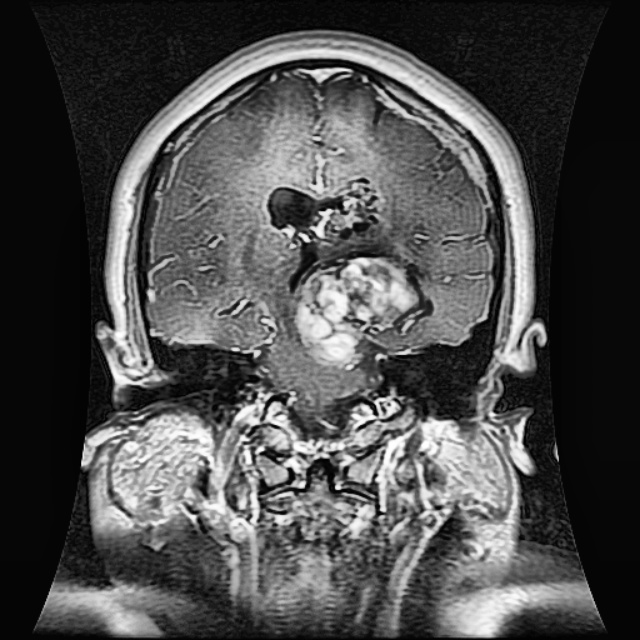Meningioma: (292, 248, 433, 365)
